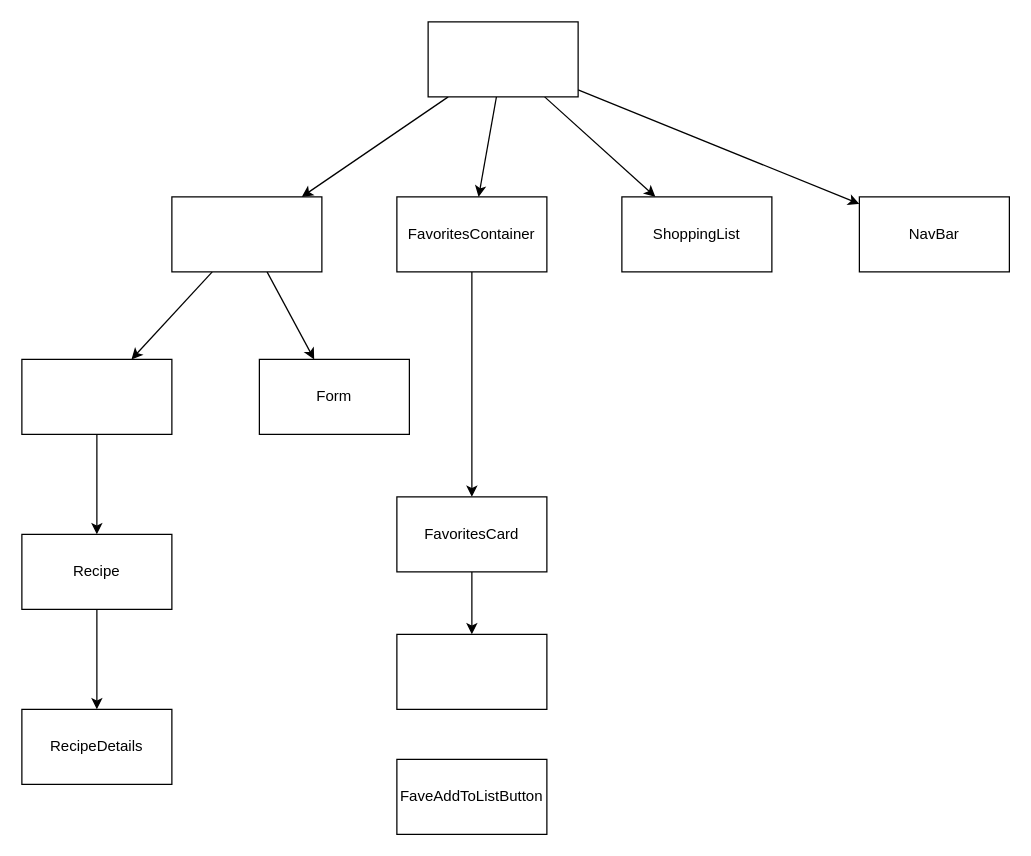
Some shapes in this 1031 by 856 pixel diagram are drawn without their labels. The shapes that lost their labels are listed below. From the top down, each one's box as (x1, y1, x2, y2) in pixels, then its label:
(427, 21, 578, 97): App
(171, 196, 322, 272): Home
(21, 358, 172, 434): RecipesContainer
(396, 633, 547, 709): FavoritesDetail
